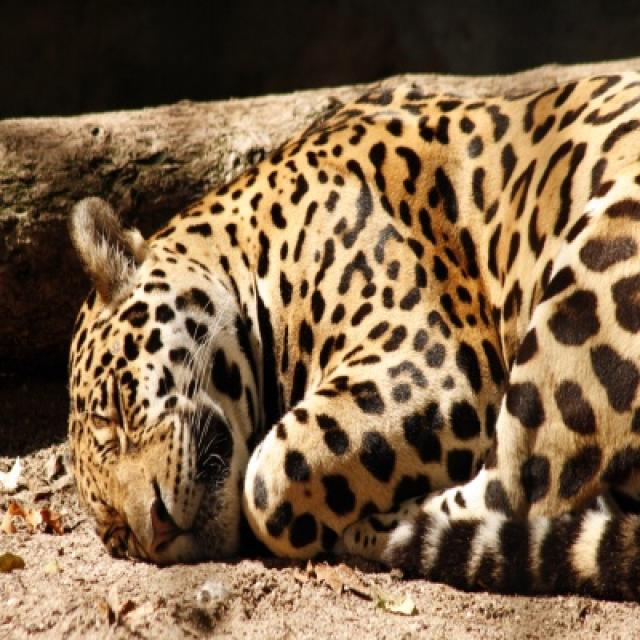Jaguar: (67, 58, 638, 608)
